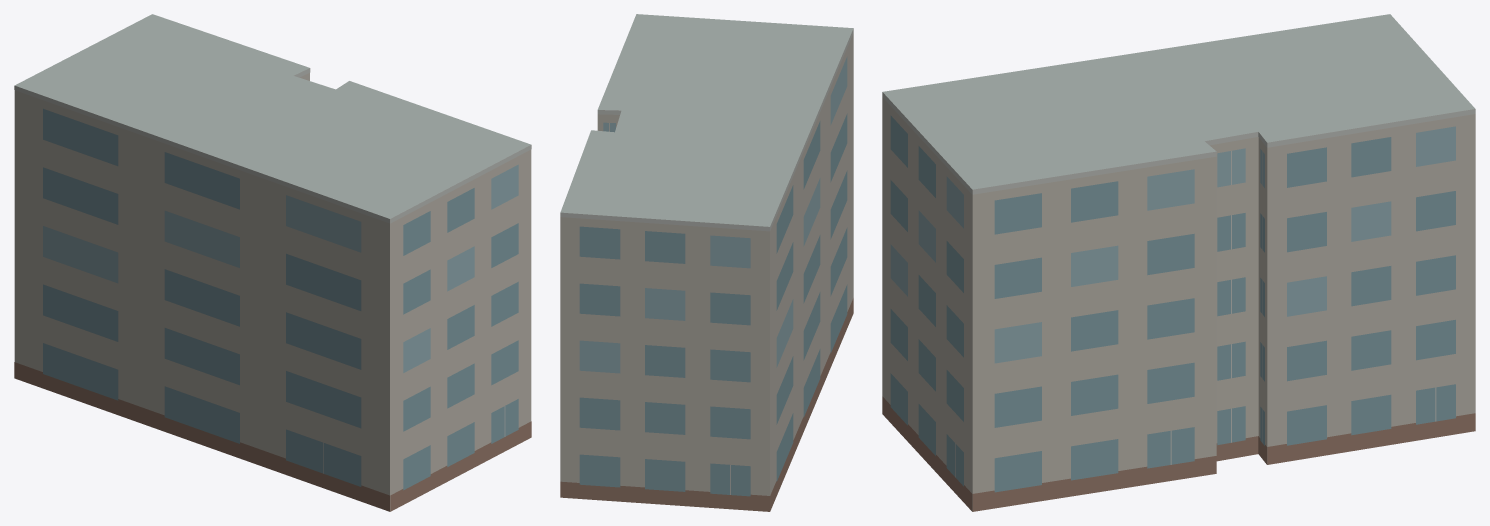
The model's file is survey-upis-32844797.glb.
The picture shows the model from 3 angles, left to right: view 1: azimuth 30°, elevation 25°; view 2: azimuth 150°, elevation 25°; view 3: azimuth 270°, elevation 25°; orthographic projection. The views are drawn at different scales.
Visible parts, largest first — view 1: survey-upis-32844797.tmp; view 2: survey-upis-32844797.tmp; view 3: survey-upis-32844797.tmp.
Boxes of the visible parts, x1,y1,x2,y2 form: survey-upis-32844797.tmp: [14, 14, 531, 511]; survey-upis-32844797.tmp: [560, 14, 853, 511]; survey-upis-32844797.tmp: [882, 14, 1475, 511].
Size of the model in its own units: 18.13 by 15.5 by 25.87.
